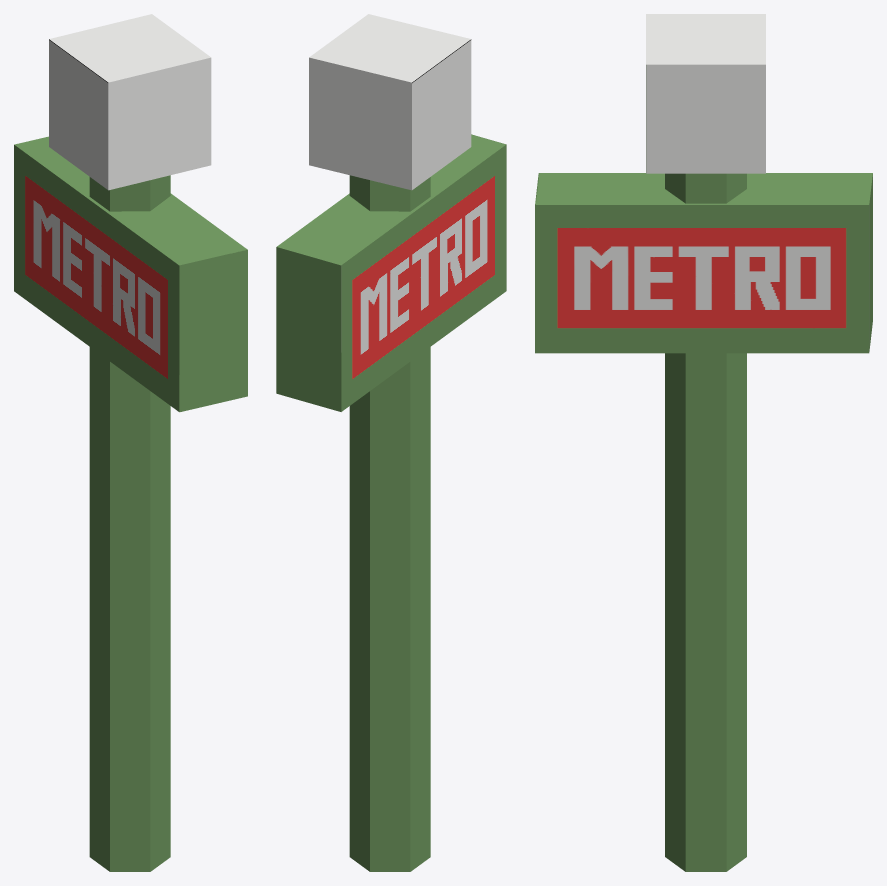
File: metro.glb
3 views of the same model, side by side, from view 1: azimuth 30°, elevation 25°; view 2: azimuth 150°, elevation 25°; view 3: azimuth 270°, elevation 25° (orthographic).
Parts seen in each view (by area): view 1: Cube; view 2: Cube; view 3: Cube.
Boxes of the visible parts, <box> form: Cube: <box>14,14,247,871</box>; Cube: <box>276,14,506,871</box>; Cube: <box>535,14,872,871</box>.
Size of the model in its own units: 1.47 by 11.02 by 4.13.
Materials: 1 (1 with a texture image).
